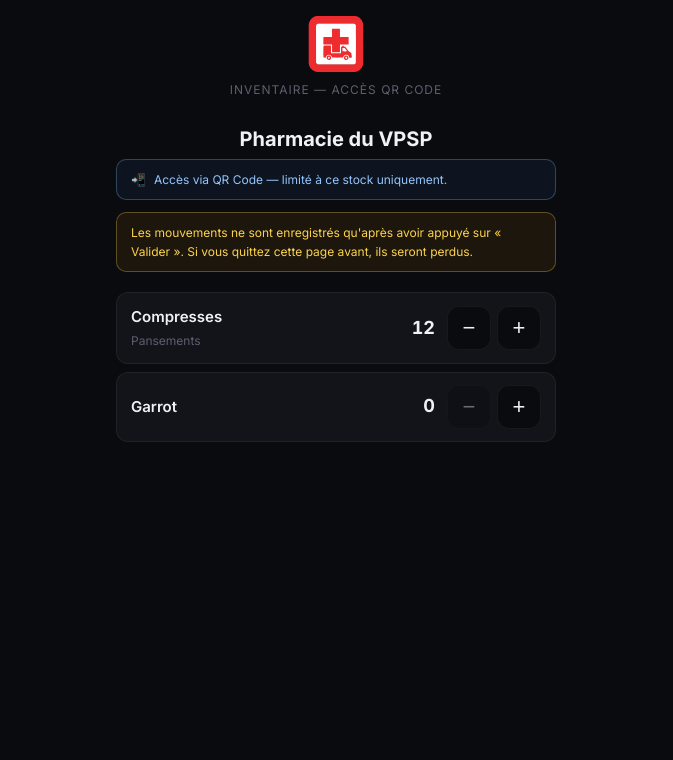
Test: QRStockPage › efface l'erreur précédente au début d'une nouvelle validation
Expected: the heading "Pharmacie du VPSP" is shown, [240, 127, 432, 151]
Click the button named "Retirer une unité de Compresses" at (469, 328), box [447, 306, 491, 350]
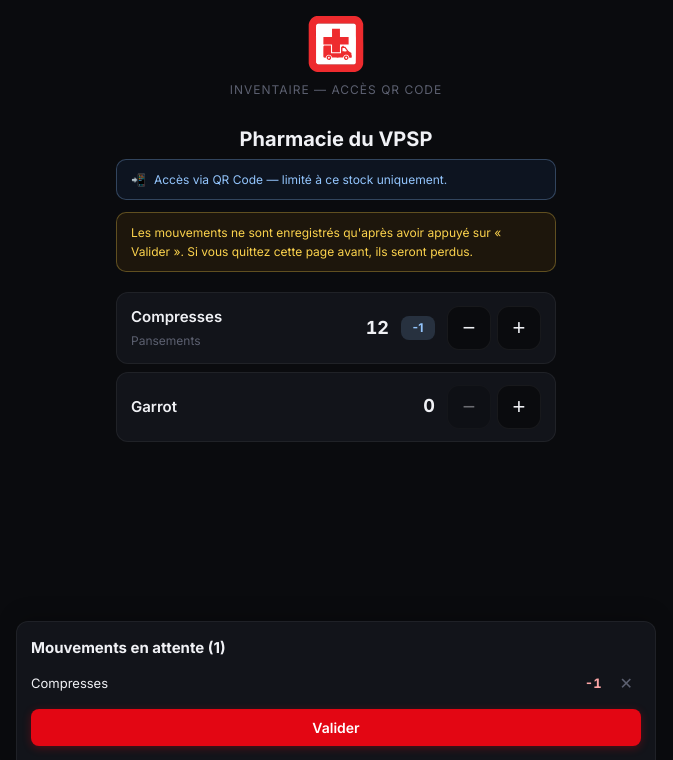
Click the button "Valider" at (336, 728), box [31, 709, 641, 746]
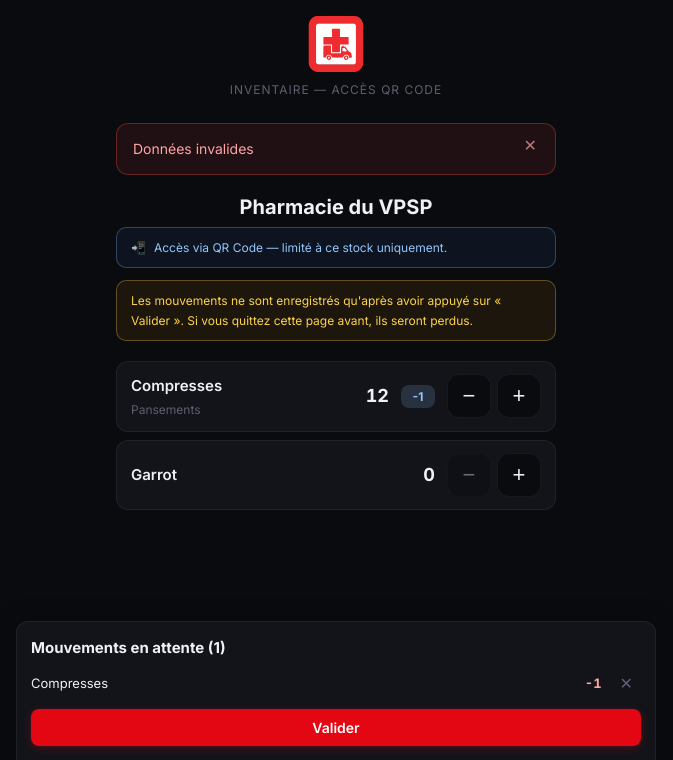
Expected: the text "Données invalides" is shown, [133, 140, 254, 157]
Click the button "Valider" at (336, 728), box [31, 709, 641, 746]
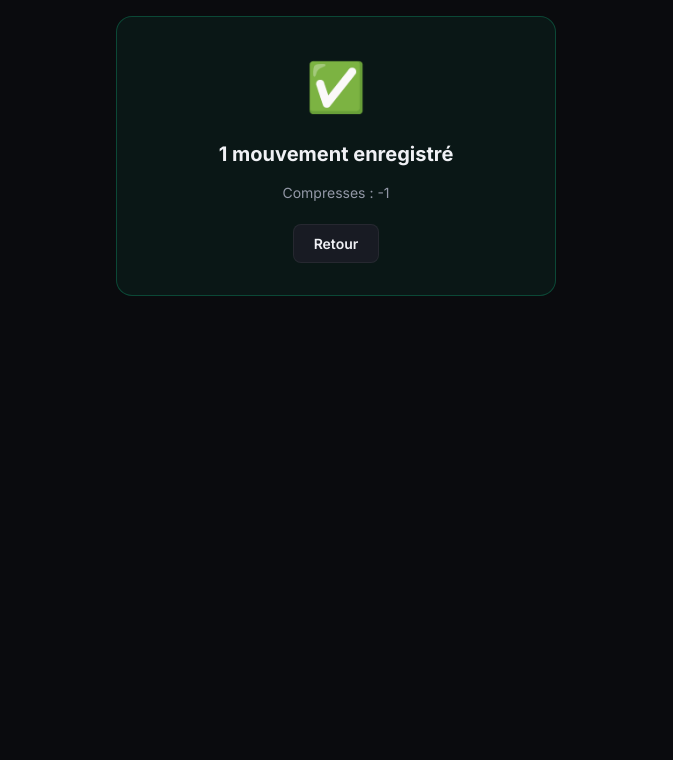
Expected: the text "1 mouvement enregistré" is shown, [219, 142, 453, 166]
Expected: the text "Données invalides" is gone
